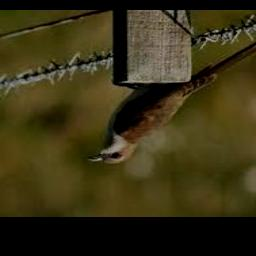Cuckoo: (87, 34, 256, 164)
